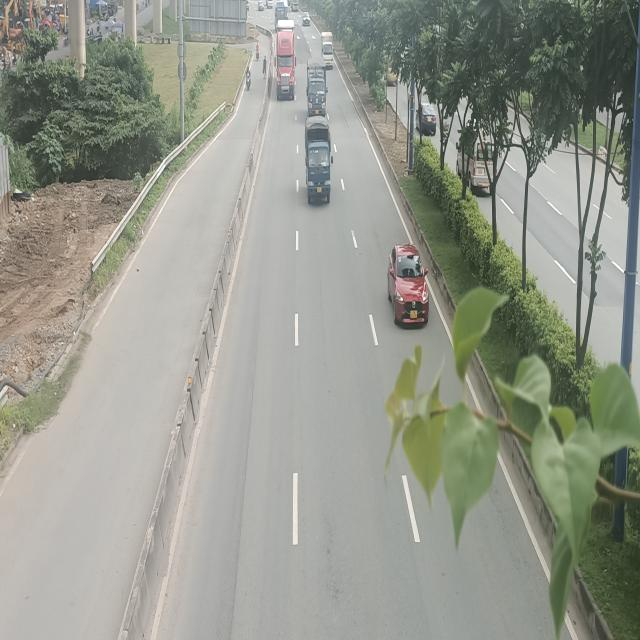car: (386, 244, 431, 330)
container: (274, 19, 297, 100)
truck: (305, 115, 333, 205), (306, 58, 328, 117), (321, 31, 335, 69)
